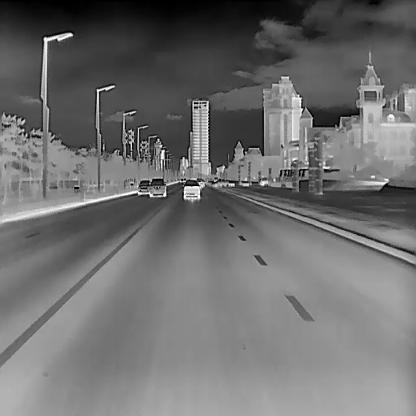car: (182, 179, 200, 200), (149, 176, 165, 196), (137, 179, 150, 195), (211, 178, 228, 186), (259, 176, 268, 186)
